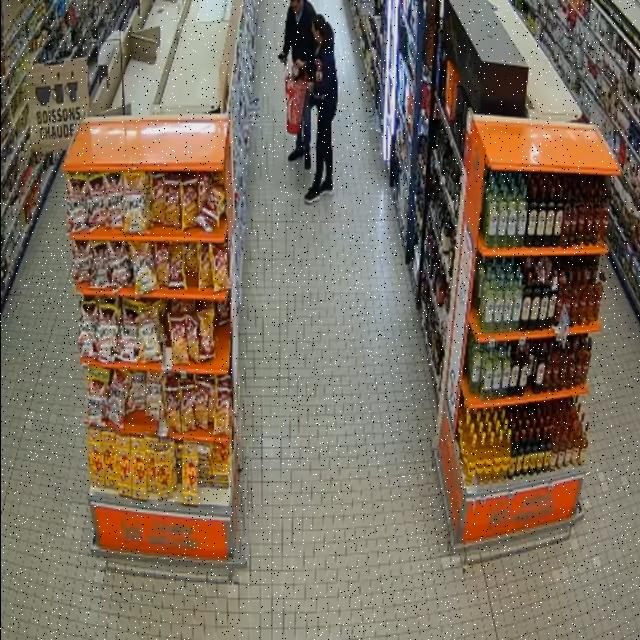article: (315, 61, 324, 82), (292, 65, 299, 80)
bags: (286, 71, 306, 135)
hands: (278, 51, 287, 63), (295, 60, 304, 69), (307, 82, 313, 93)
person: (305, 15, 338, 204), (279, 0, 316, 68)
